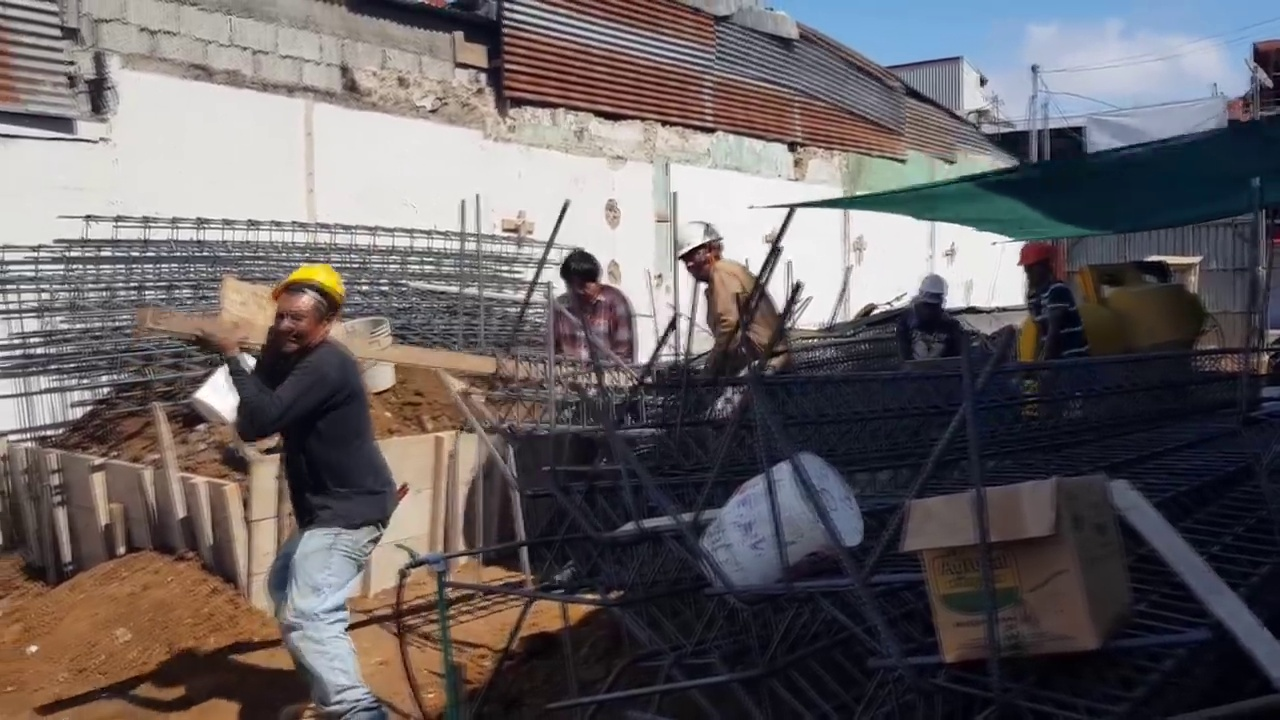helmet: (266, 254, 340, 311), (672, 218, 729, 265), (1017, 243, 1058, 268), (917, 276, 948, 302)
helmet-off: (558, 251, 598, 305)
helmet-on: (261, 258, 342, 363), (673, 215, 729, 281), (1019, 242, 1060, 296), (917, 277, 949, 312)
person: (198, 255, 404, 719), (669, 218, 796, 394), (541, 253, 634, 423), (1018, 242, 1090, 362), (911, 276, 966, 360)
